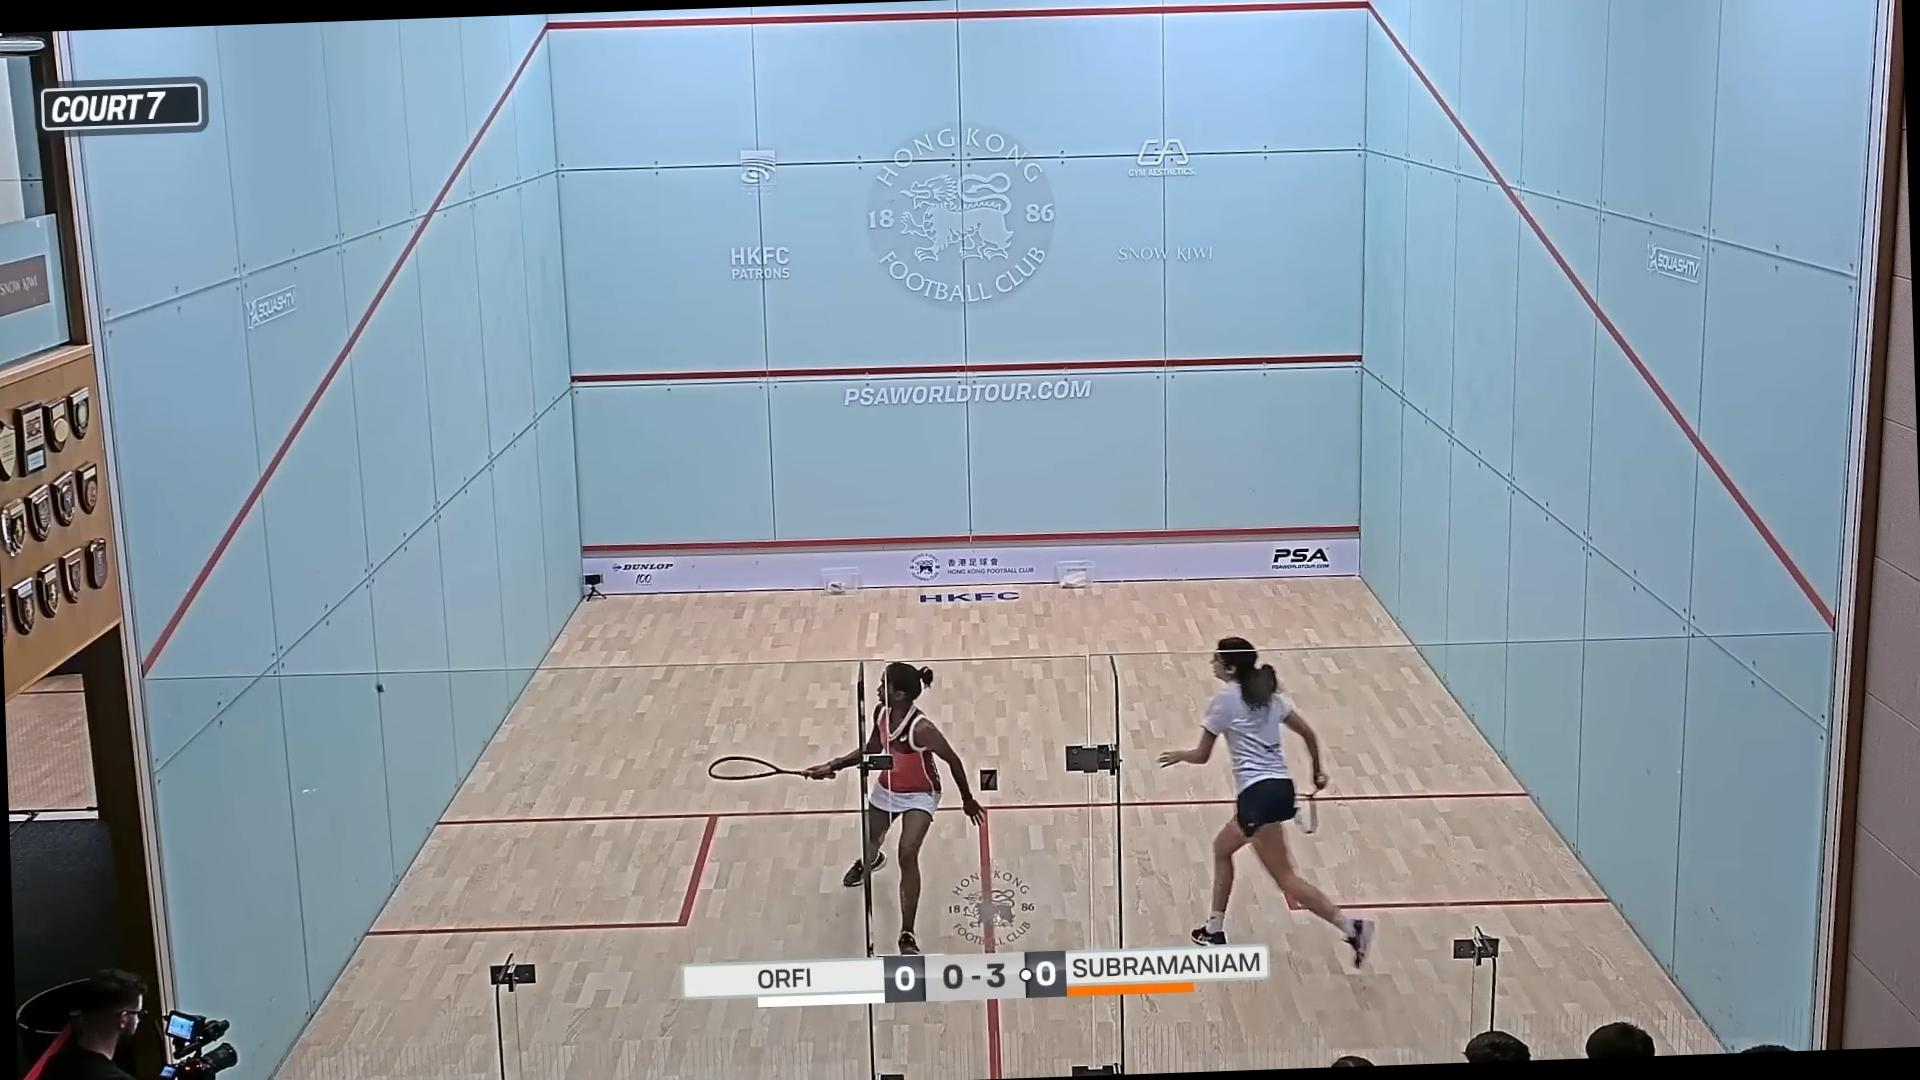Squash-Ball: (360, 666, 397, 711)
